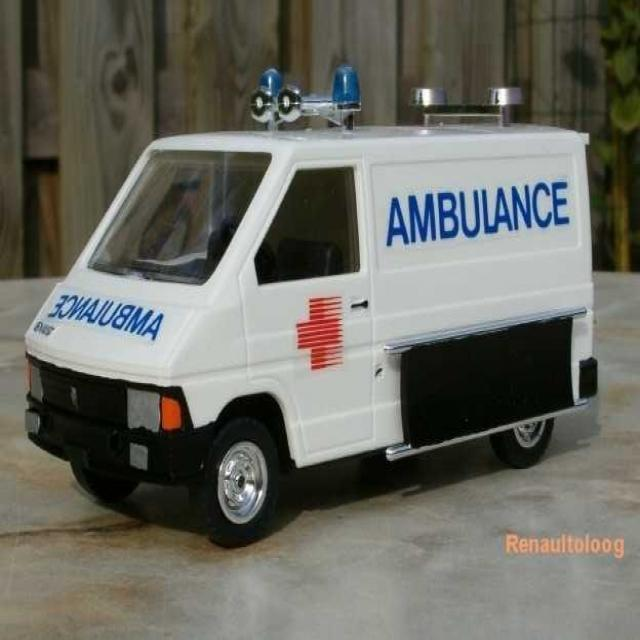emergency-vehicle: (24, 75, 600, 540)
